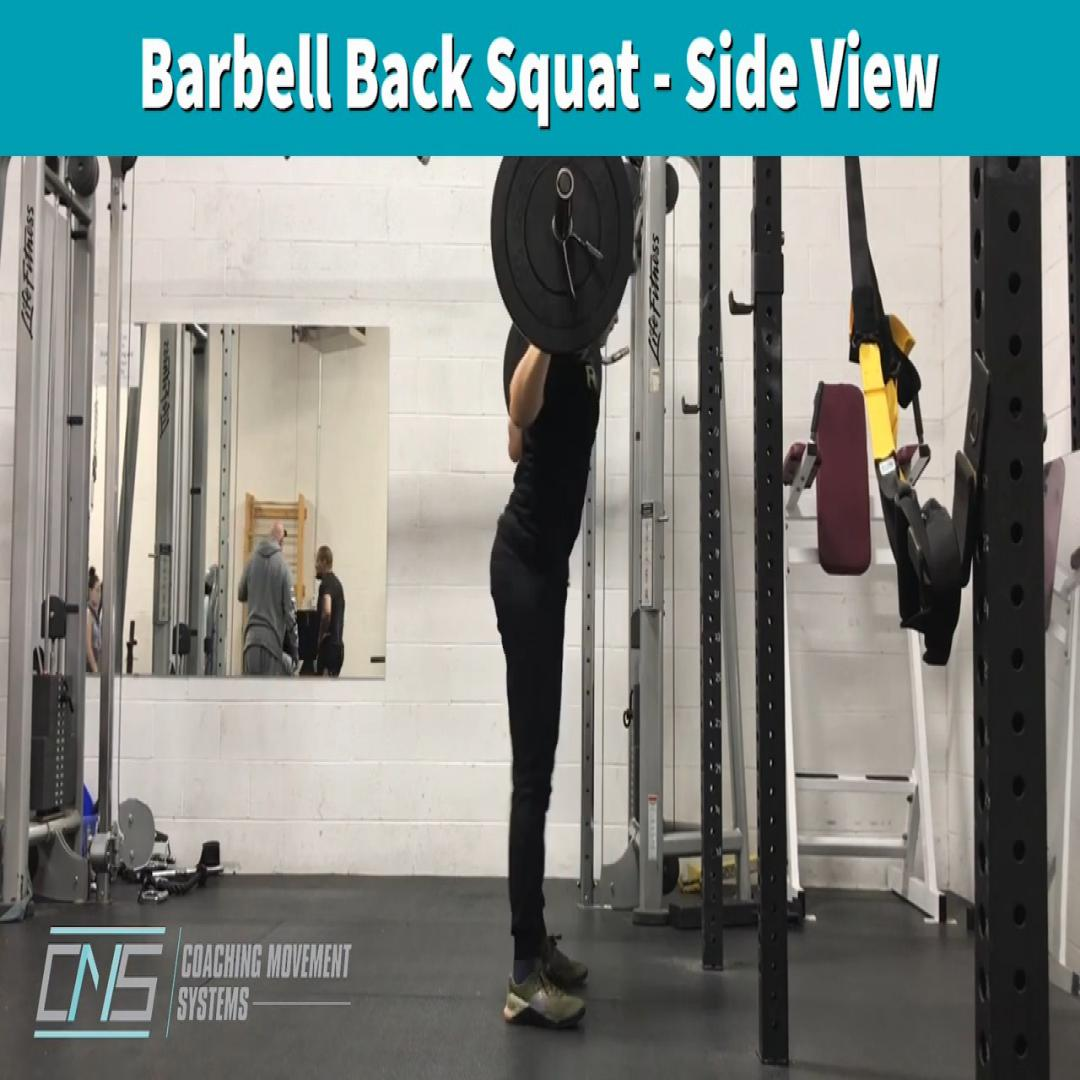Bar: (556, 165, 576, 201)
Barbell: (490, 156, 634, 356)
